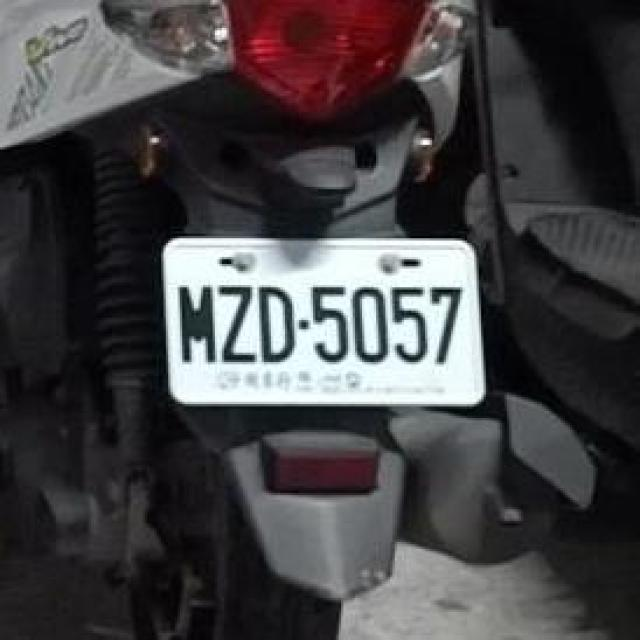W: (152, 222, 493, 416)
